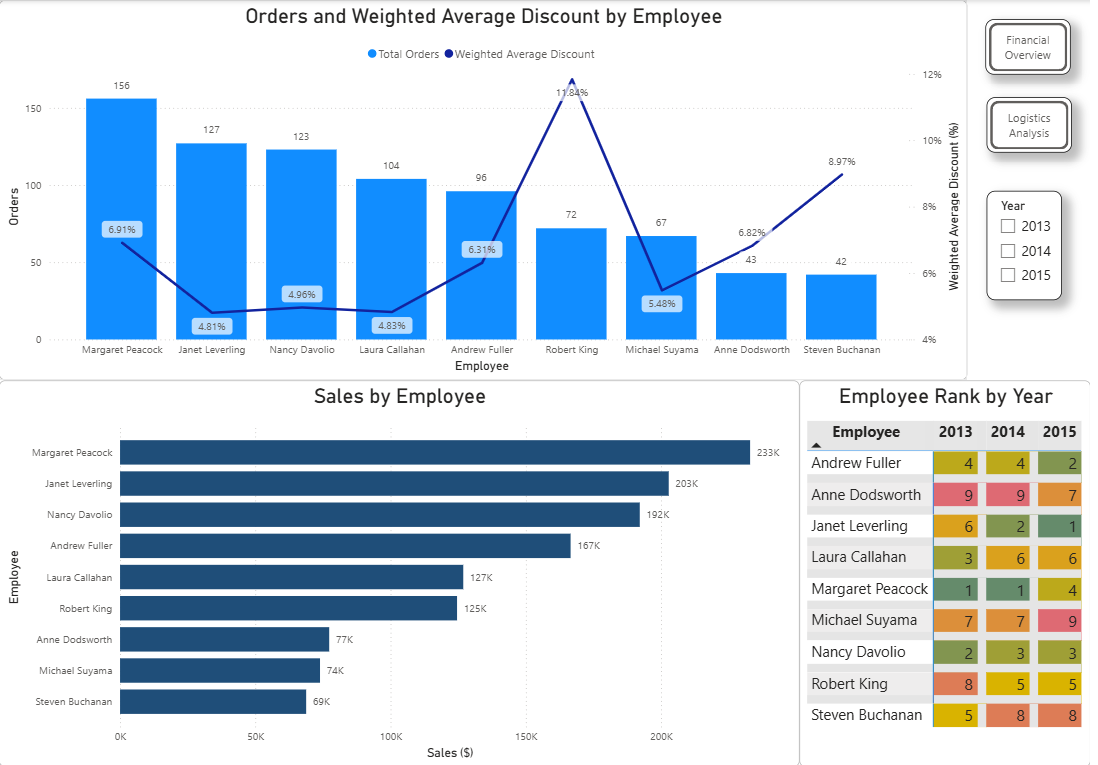

Layout of this report page (visuals, bound fields, positions):
{"tool":"powerbi","page":{"name":"Employee Performance","canvas":[1280,900],"ordinal":2},"visuals":[{"type":"lineClusteredColumnComboChart","title":"Orders and Weighted Average Discount by Employee","fields":{"Category":["Employees.employeeName"],"Y":["_Measures.Total Orders"],"Y2":["_Measures.Weighted Average Discount"]},"box":[0,0,1136,446.2],"z":0},{"type":"clusteredBarChart","title":"Sales by Employee","fields":{"Category":["Employees.employeeName"],"Y":["_Measures.Total Sales"]},"box":[0,446.2,938.9,453.3],"z":1000},{"type":"pivotTable","title":"Employee Rank by Year ","fields":{"Columns":["DimDate.Year"],"Rows":["Employees.employeeName"],"Values":["_Measures.Employee Rank"]},"box":[938.9,446.2,342.1,453.3],"z":2000},{"type":"actionButton","box":[1157.1,22.5,100.1,65.3],"z":2001},{"type":"actionButton","box":[1158.5,114,100.1,65.3],"z":2002},{"type":"slicer","fields":{"Values":["DimDate.Year"]},"box":[1158.5,223.8,88.7,128.1],"z":2003}]}

Visuals, with their boxes in screenshot pixels (x1, y1, x2, y2), scaled from the page's 1280x900 canvas onto the 1098x765 screenshot:
"Orders and Weighted Average Discount by Employee" lineClusteredColumnComboChart: 0, 0, 974, 379
"Sales by Employee" clusteredBarChart: 0, 379, 805, 764
"Employee Rank by Year " pivotTable: 805, 379, 1097, 764
actionButton: 993, 19, 1078, 75
actionButton: 994, 97, 1080, 152
slicer - DimDate.Year: 994, 190, 1070, 299
